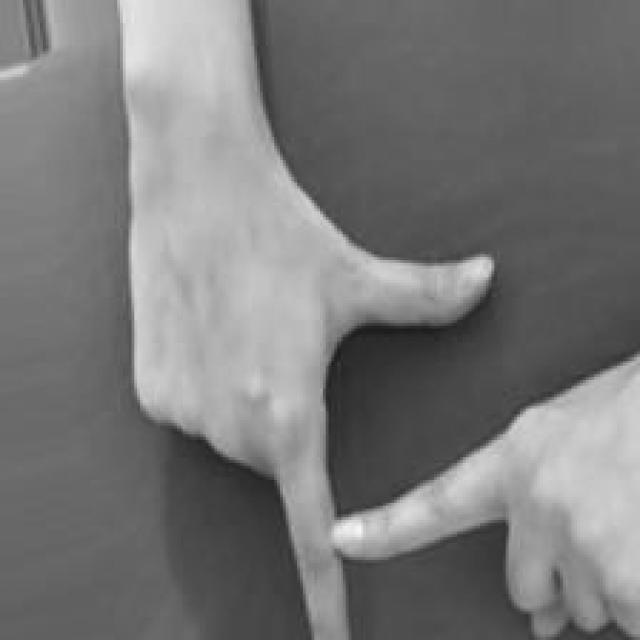F: (134, 245, 639, 640)
